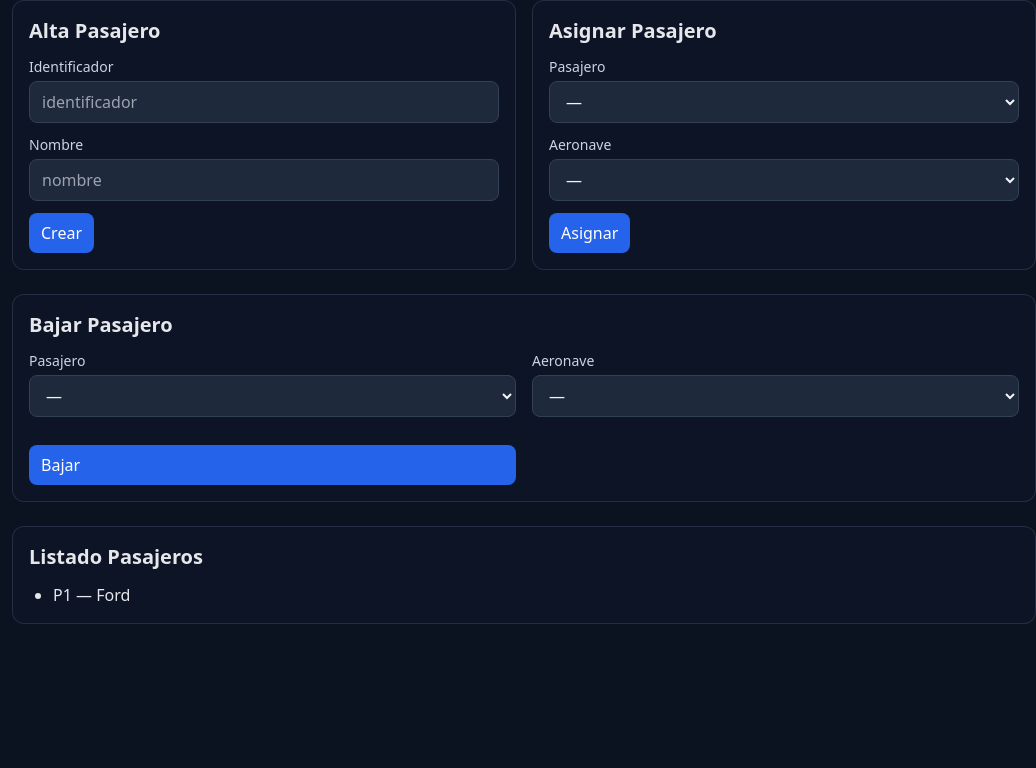
PasajerosPage – ramas extra de asignar/bajar › muestra error al asignar y éxito al bajar
// Asignar (error 409)
Select "Ford (P1)" in the dropdown labelled "Pasajero" below "Asignar Pasajero" at (784, 102), box [549, 81, 1019, 123]
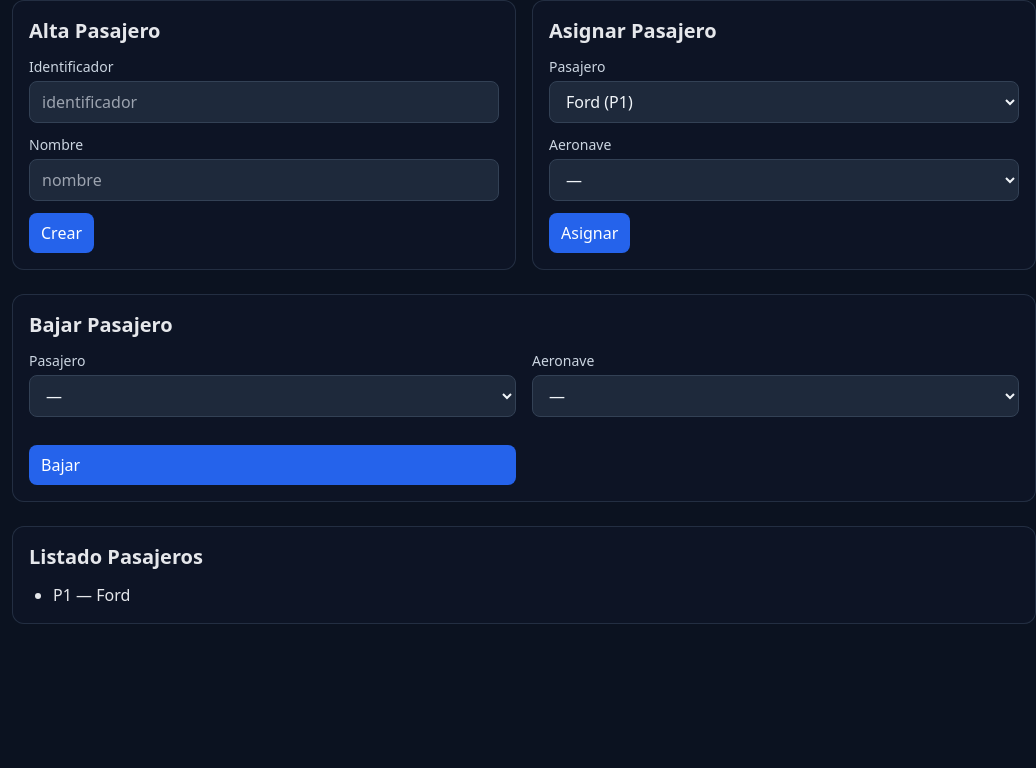
Select "Aeronave Uno (A1)" in the dropdown labelled "Aeronave" below "Asignar Pasajero" at (784, 180), box [549, 159, 1019, 201]
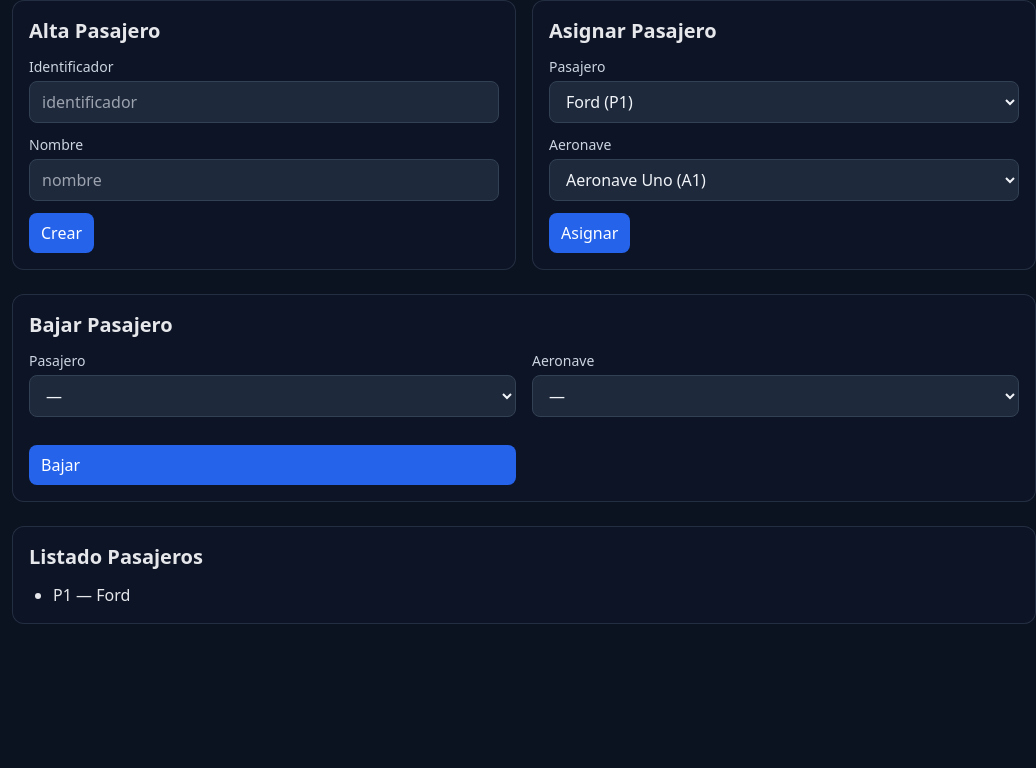
Click the button "Asignar" at (590, 233), box [549, 213, 630, 253]
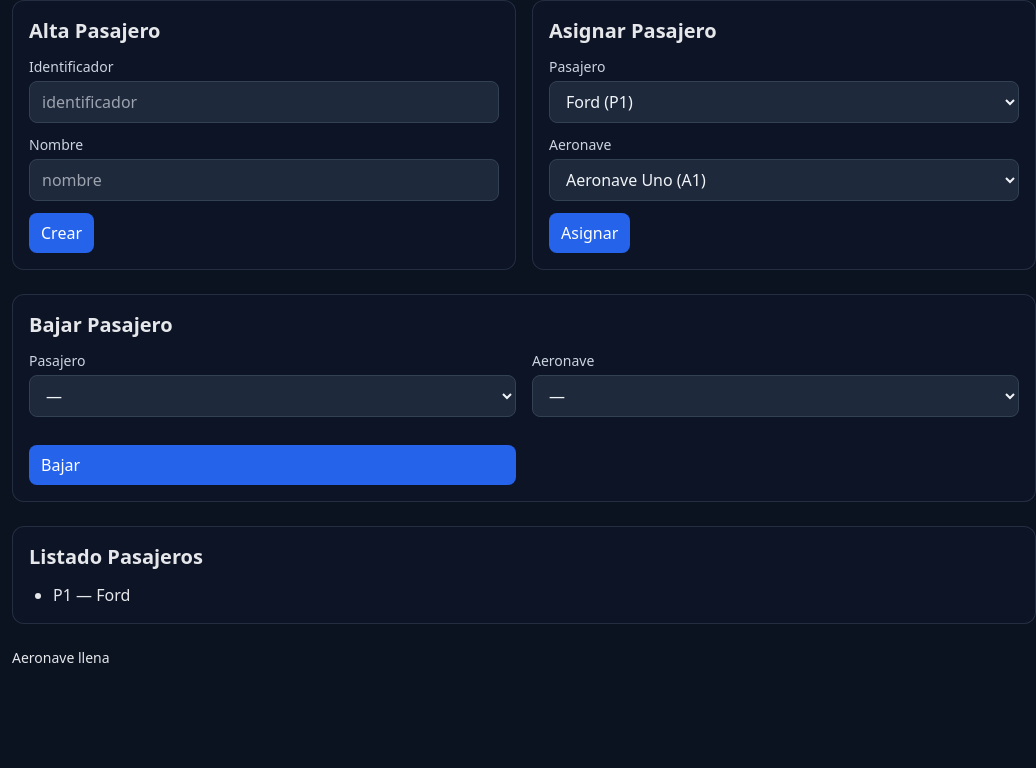
expect the text "Aeronave llena" is shown: met, box [12, 648, 110, 667]
// Bajar (ok)
Select "Ford (P1)" in the dropdown labelled "Pasajero" below "Bajar Pasajero" at (272, 396), box [29, 375, 516, 417]
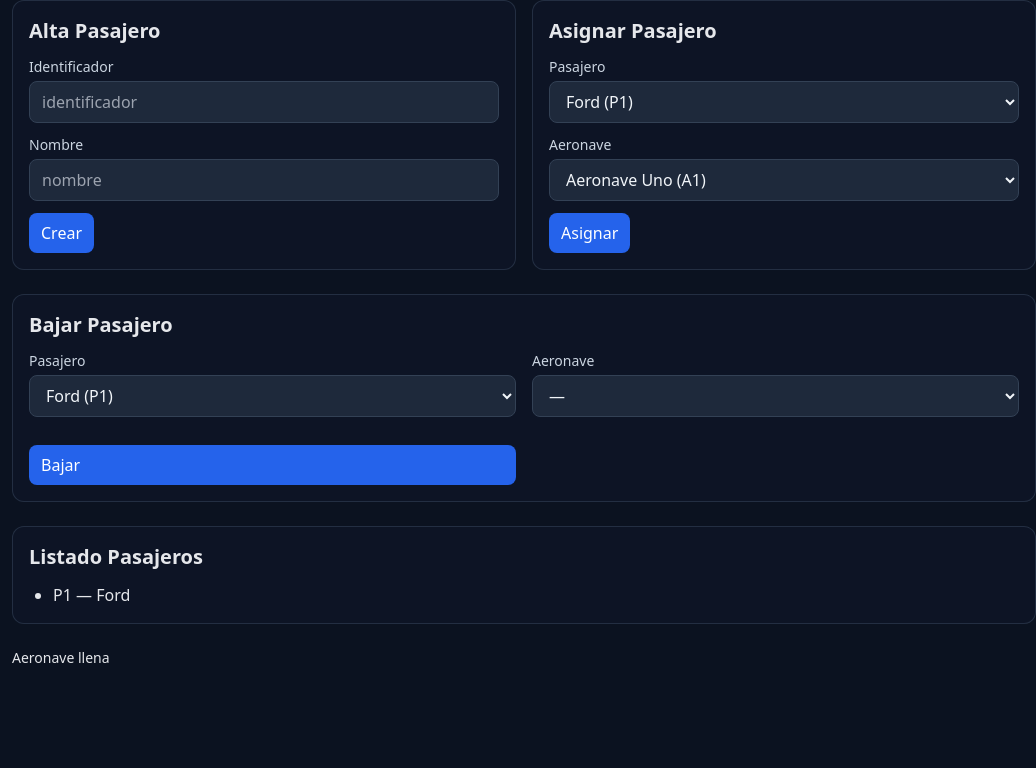
Select "Aeronave Uno (A1)" in the 2nd dropdown labelled "Aeronave" at (776, 396), box [532, 375, 1019, 417]
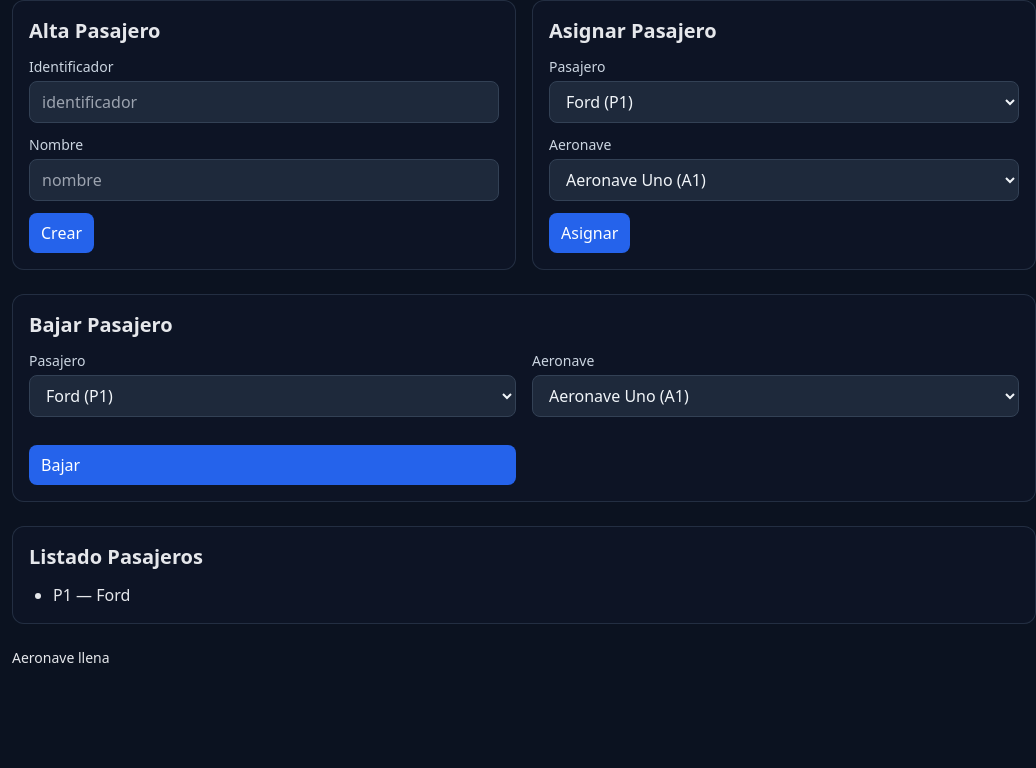
Click the button "Bajar" at (61, 465), box [29, 445, 516, 485]
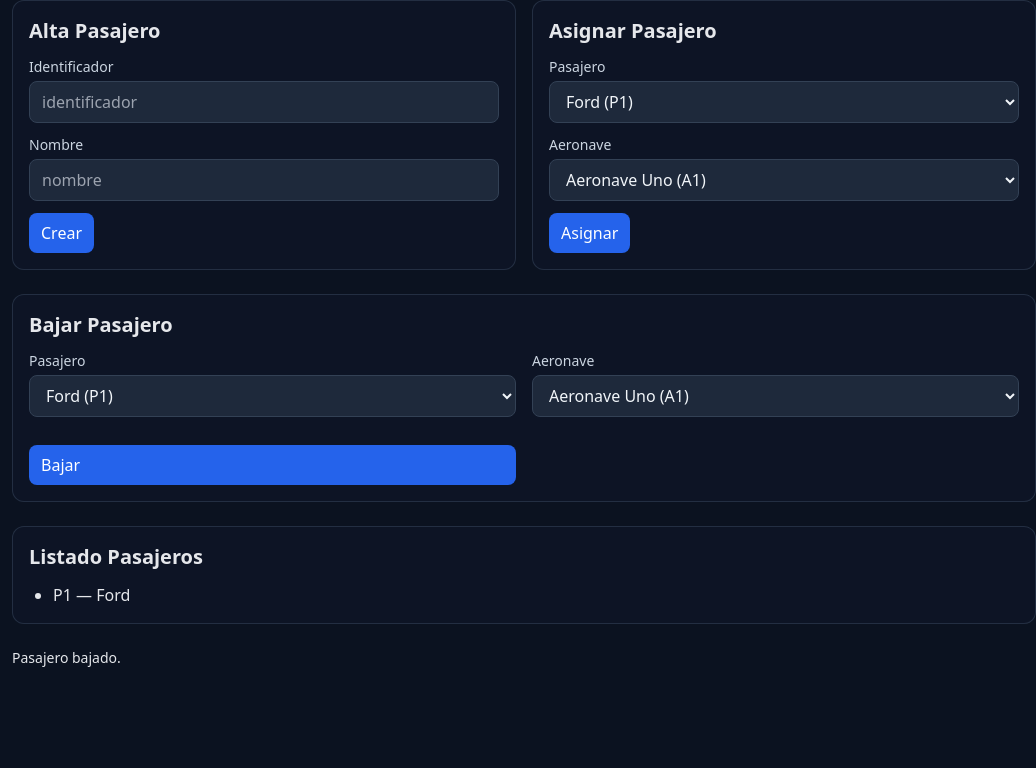
expect the text "Pasajero bajado." is shown: met, box [12, 648, 121, 667]
